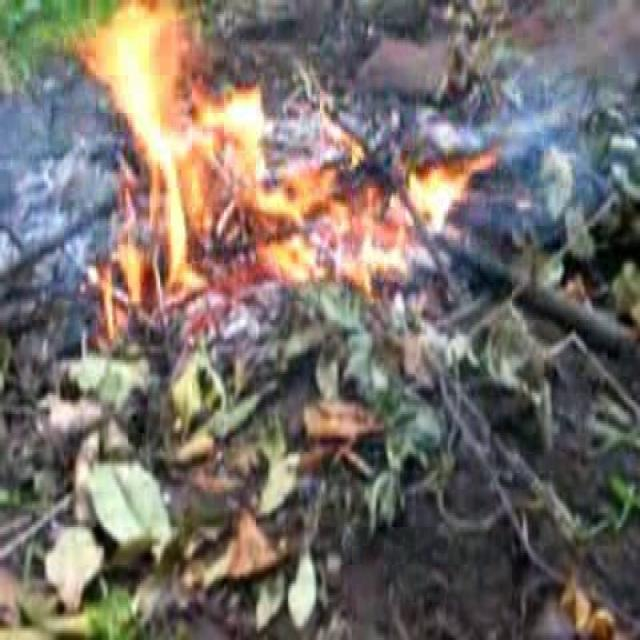fire: (88, 14, 209, 206)
